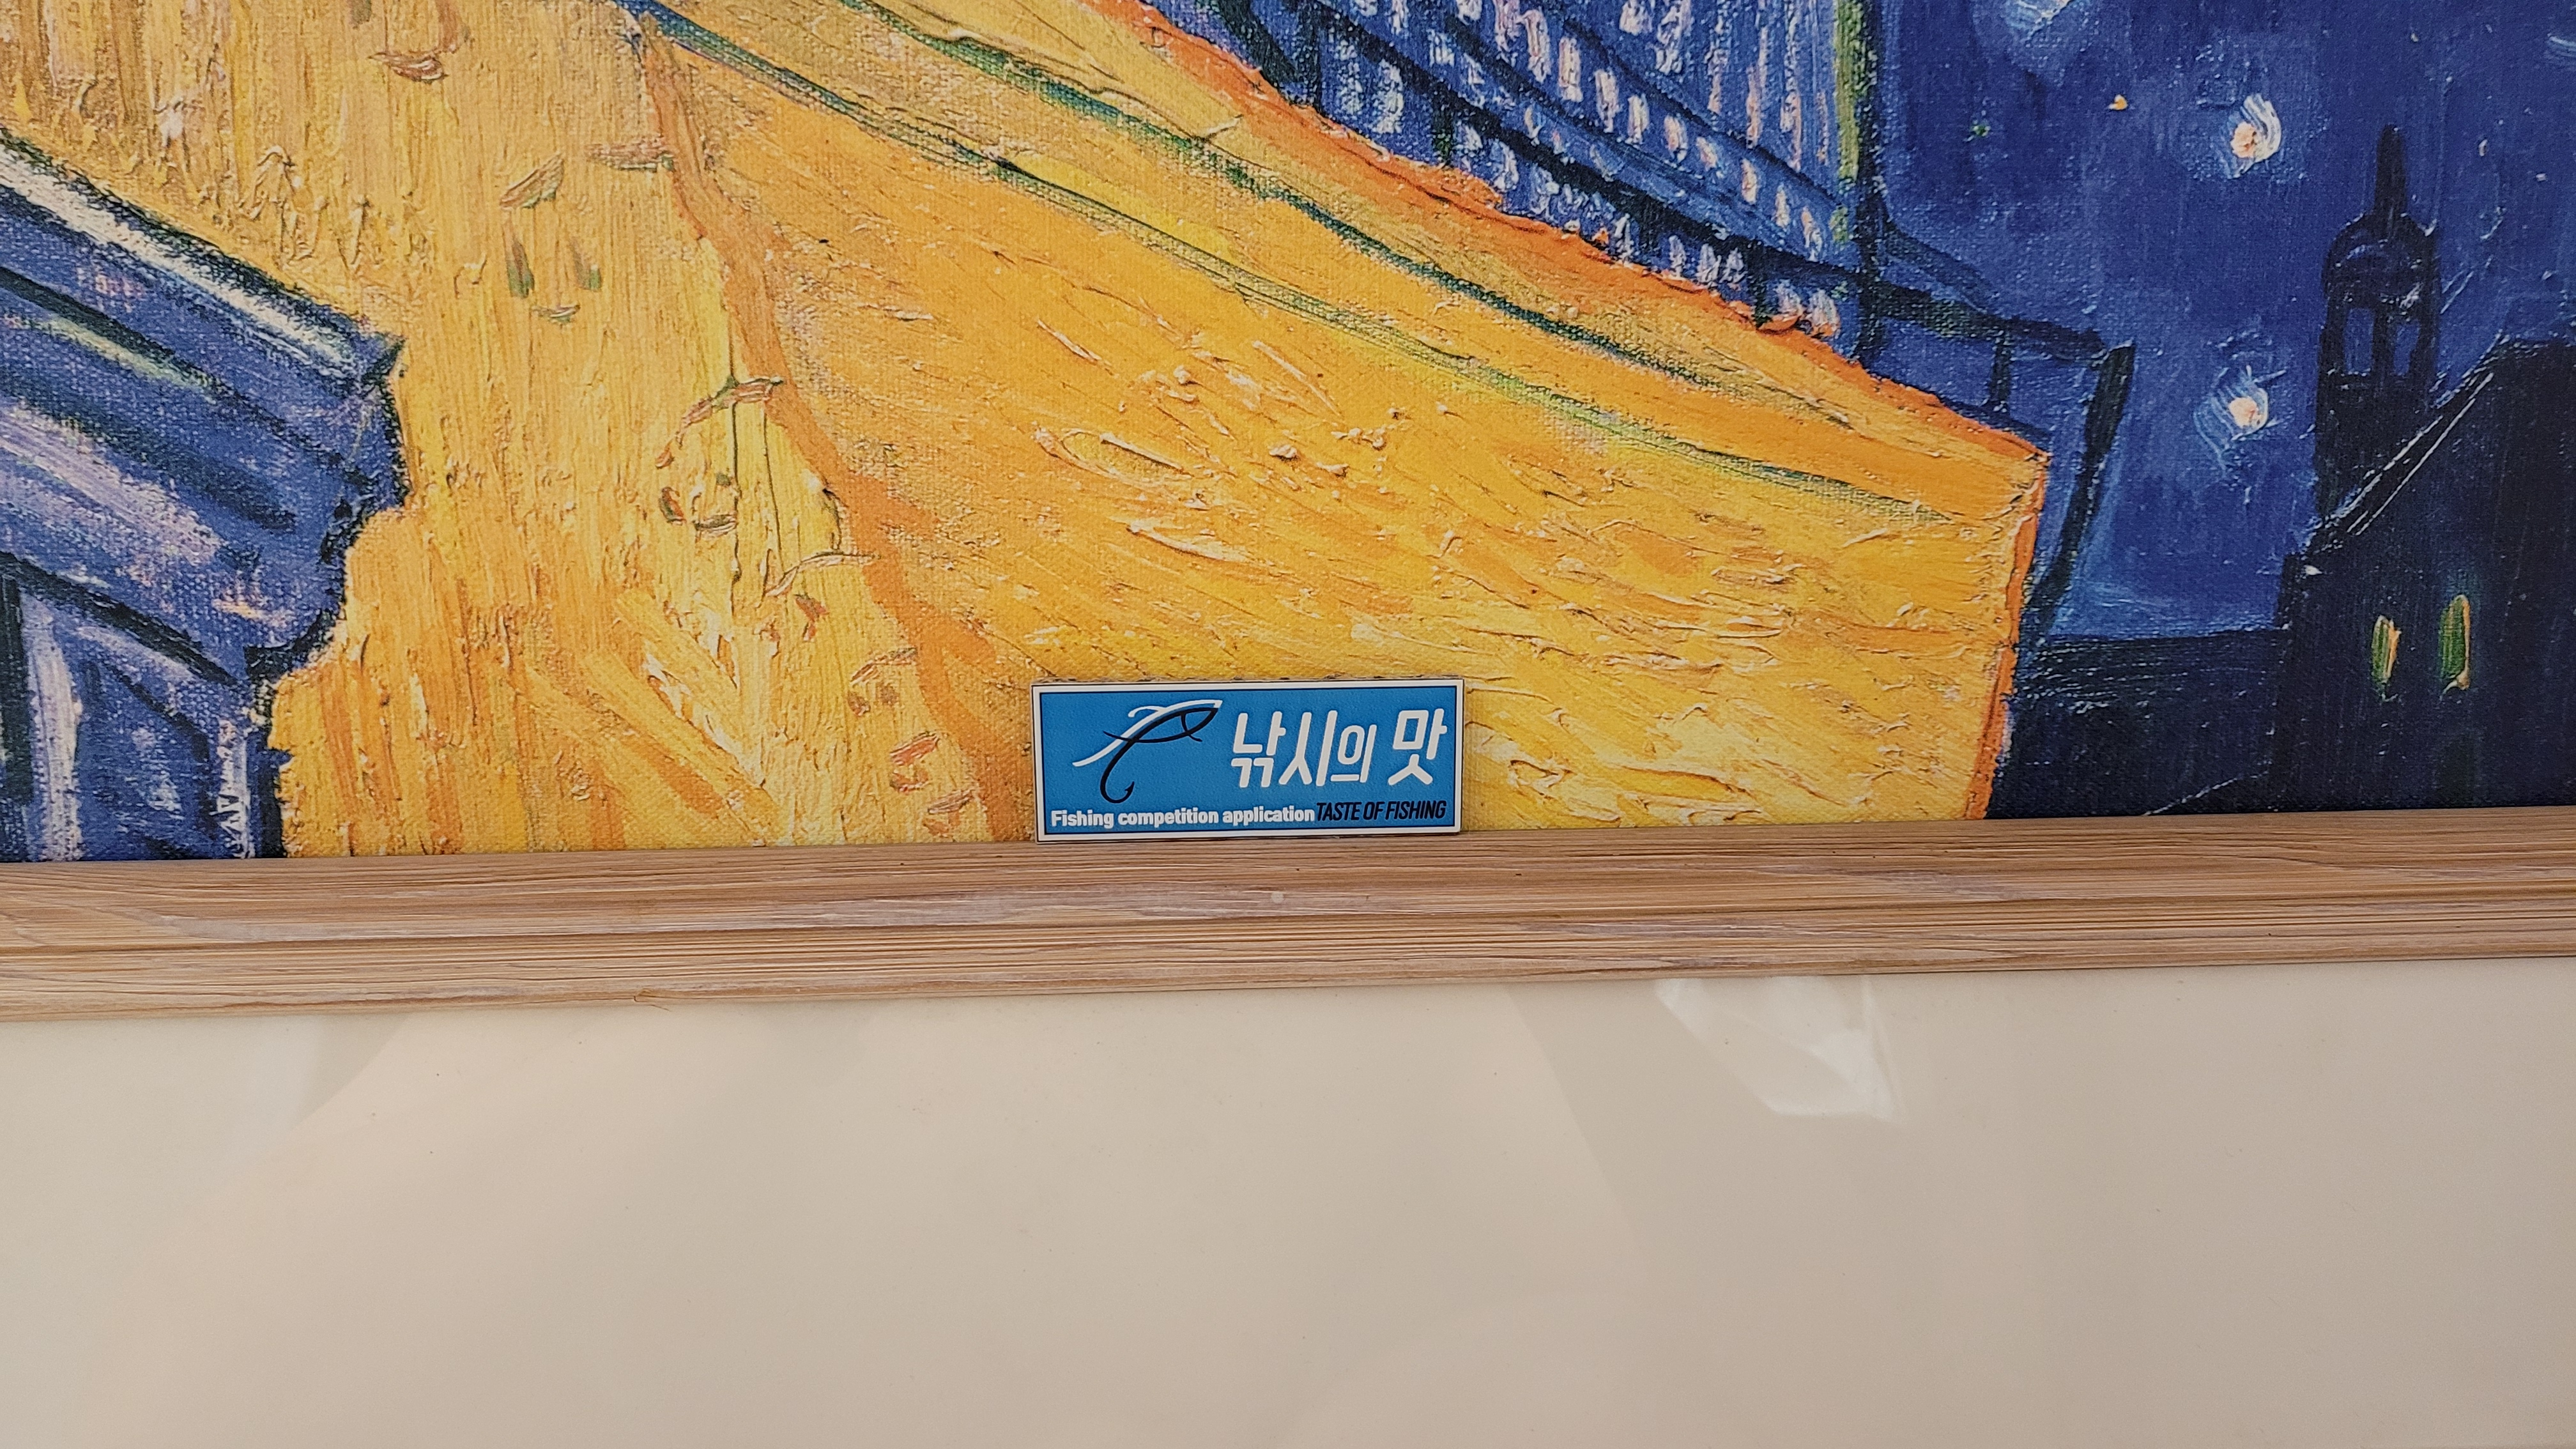tag: (1033, 685, 1463, 840)
